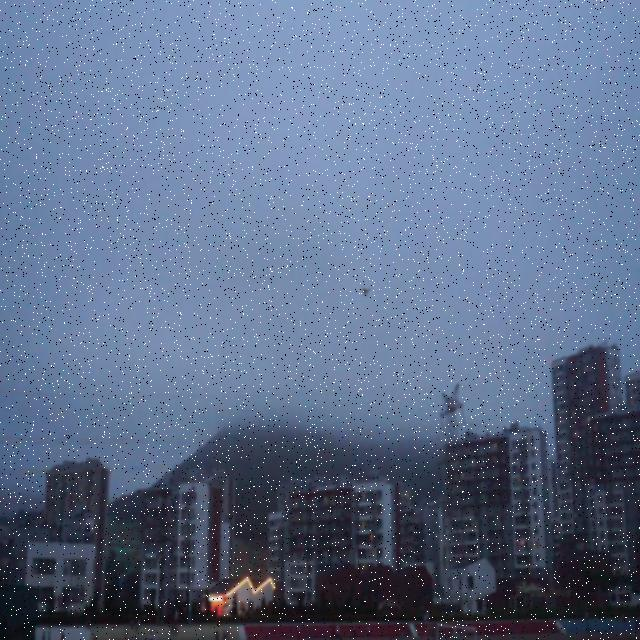UAV: (360, 287, 372, 297)
